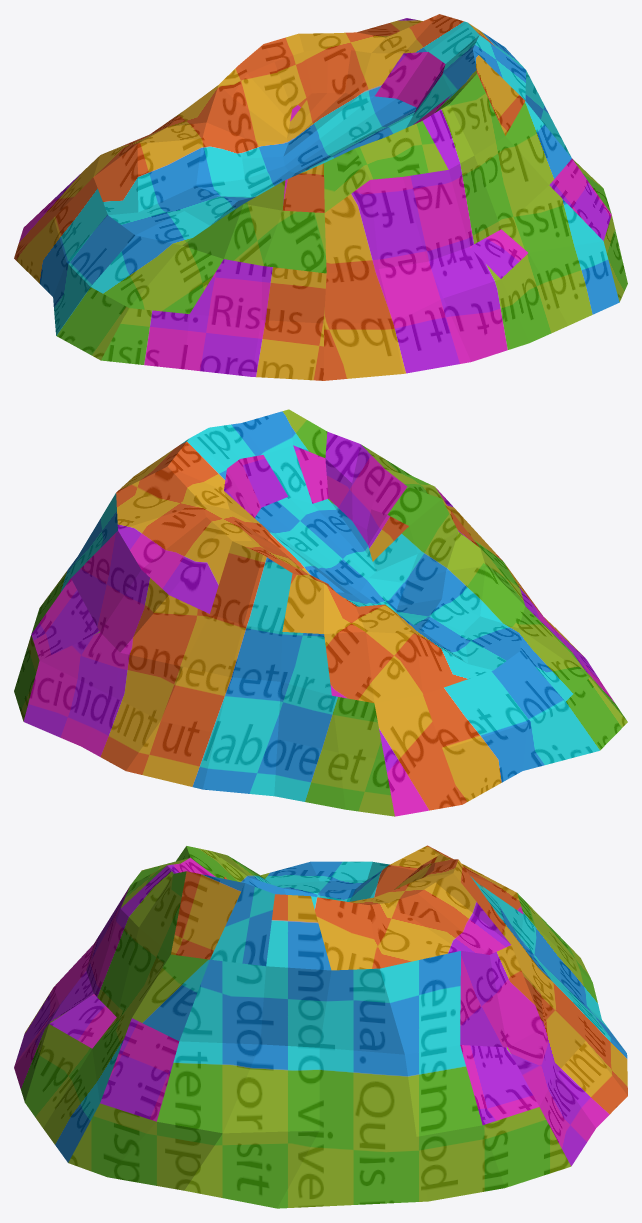
The model's file is SM_Mountain_6.fbx.
3 renders of one model, top to bottom at view 1: azimuth 30°, elevation 25°; view 2: azimuth 150°, elevation 25°; view 3: azimuth 270°, elevation 25°, orthographic. The views are drawn at different scales.
Parts seen in each view (by area): view 1: SM_Mountain_6; view 2: SM_Mountain_6; view 3: SM_Mountain_6.
Boxes of the visible parts, x1,y1,x2,y2 form: SM_Mountain_6: (14,14,627,380); SM_Mountain_6: (14,409,627,816); SM_Mountain_6: (14,845,627,1208).
Bounding box in the file's own units: 126 × 47.64 × 110.
1 material, 1 textured.
